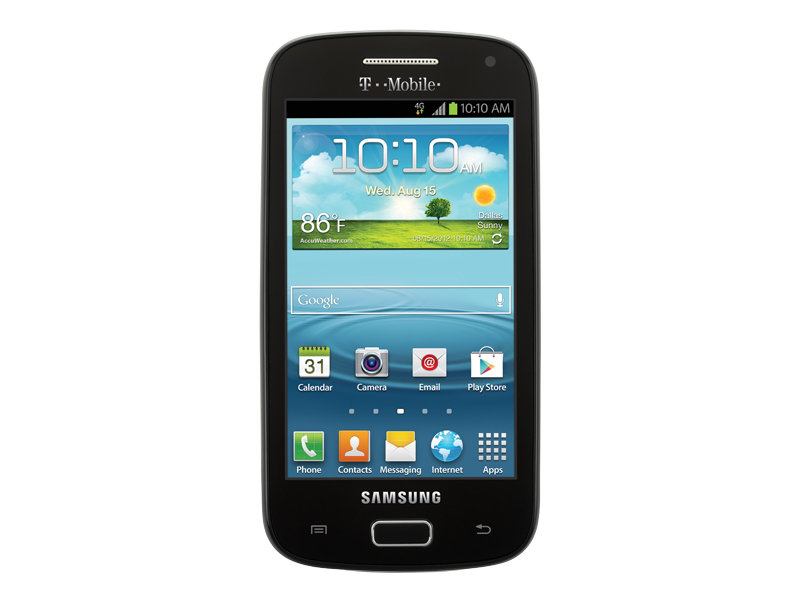mobile: (255, 26, 537, 592)
